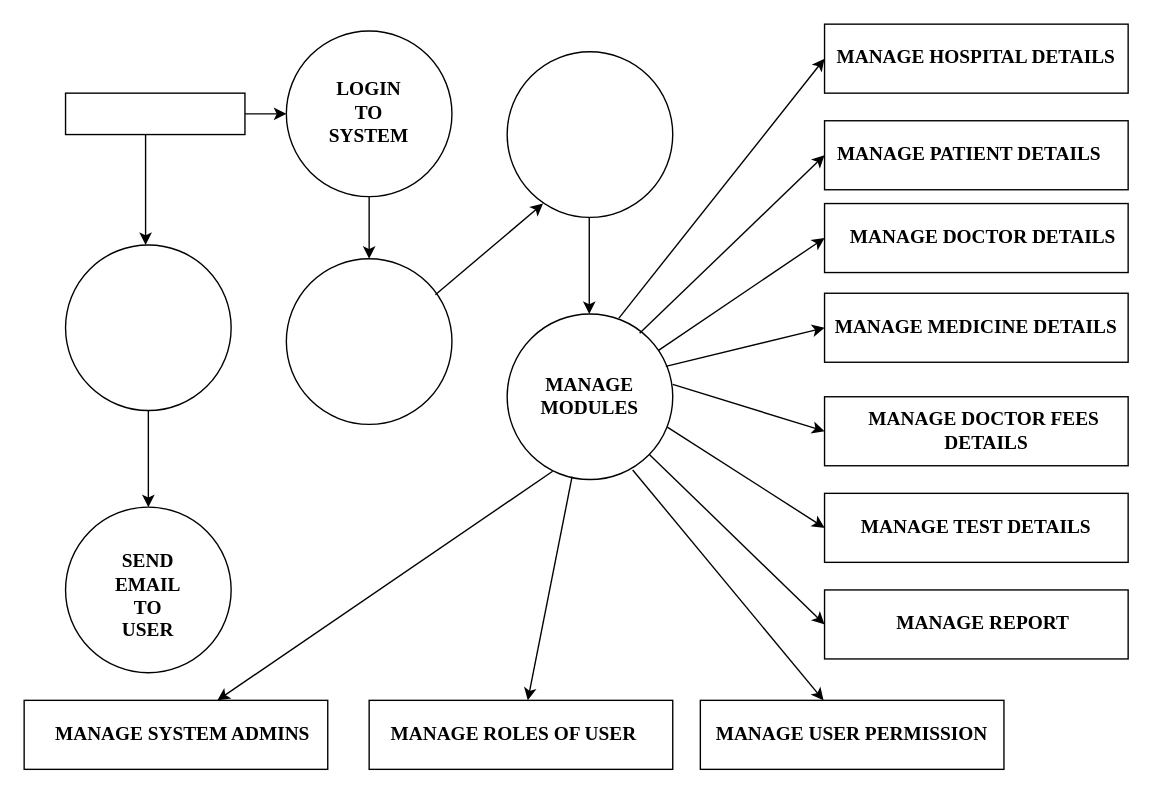
Image size: 1173x794. Some labels were removed from this diagram. Here are the shapes that lost their labels. From the top down, the centre of each, then its label:
At point (154, 113): "ADMIN".
At point (589, 133): "CHECK ROLES OF ACCESS".
At point (147, 327): "FORGOT PASSWORD".
At point (368, 340): "CHECK CREDENTIALS".
